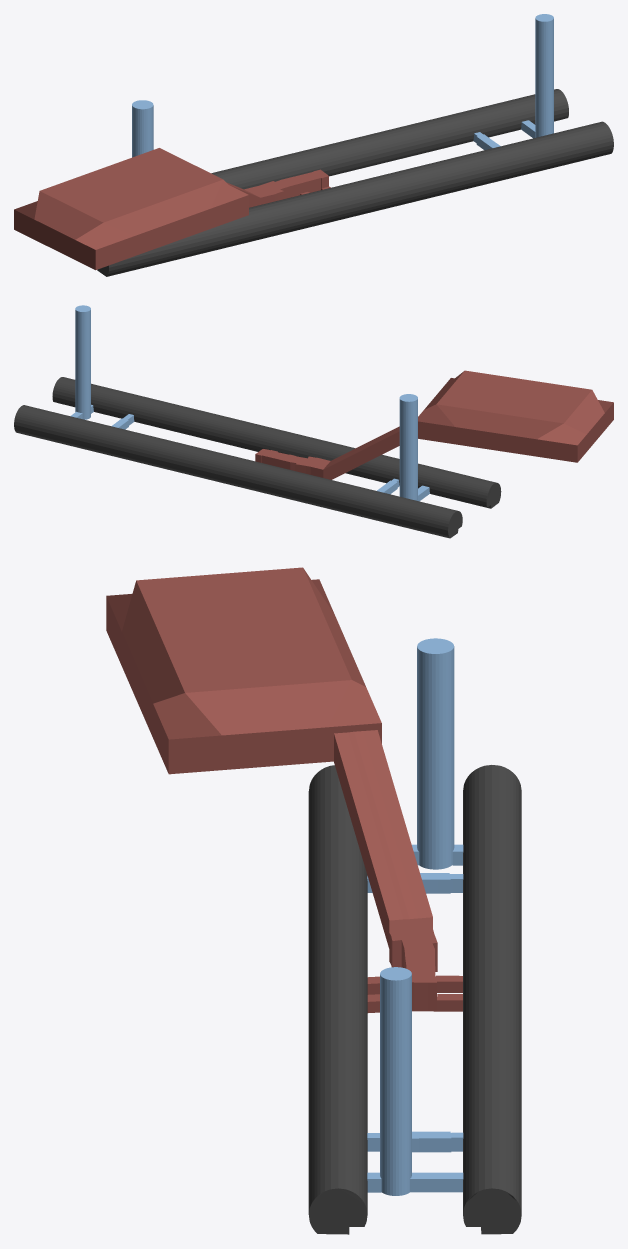
The picture shows the model from 3 angles, top to bottom: view 1: azimuth 30°, elevation 25°; view 2: azimuth 150°, elevation 25°; view 3: azimuth 270°, elevation 25°; orthographic projection. The views are drawn at different scales.
Visible parts, largest first — view 1: TicketHall, PLT1, PLT2, 13, Concourse, 26; view 2: PLT2, TicketHall, PLT1, 26, 13, ESC, Concourse; view 3: TicketHall, PLT2, PLT1, ESC, 26, 13, Concourse, 32, 42.
Part boxes in pixels (x1,y1,x2,y2): TicketHall: (14,148,248,270); PLT1: (97,121,613,276); PLT2: (211,89,568,189); 13: (521,14,553,138); Concourse: (244,169,328,204); 26: (132,100,153,157); PLT2: (14,405,462,538); TicketHall: (418,370,613,462); PLT1: (52,377,501,508); 26: (399,394,429,501); 13: (70,305,93,419); ESC: (323,426,399,479); Concourse: (255,449,330,477); TicketHall: (106,567,381,774); PLT2: (463,765,521,1234); PLT1: (308,765,367,1234); ESC: (334,730,432,948); 26: (412,638,463,869); 13: (367,967,463,1195); Concourse: (389,917,437,1011); 32: (367,1131,463,1152); 42: (367,873,463,893).
Size of the model in its own units: 186 by 38.67 by 65.05.
